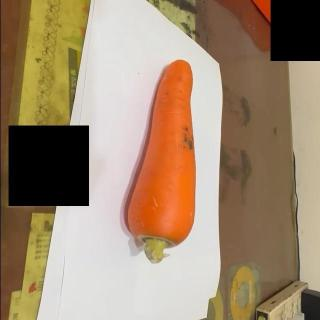carrot: (126, 57, 198, 268)
